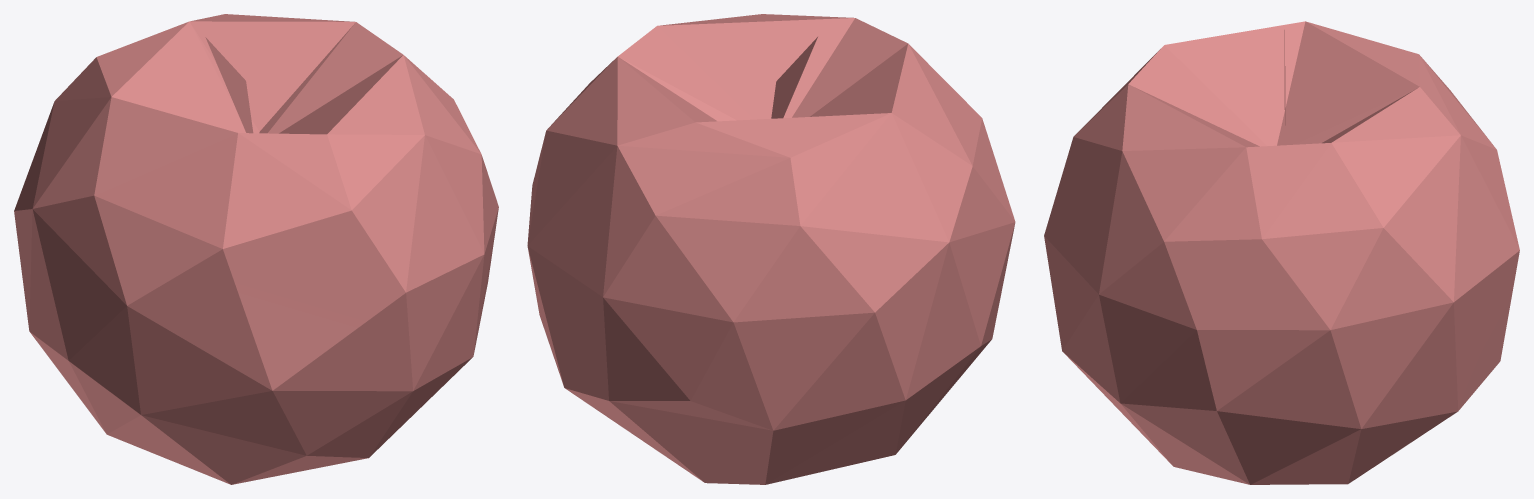
File: Apple.fbx
3 renders of one model, left to right at view 1: azimuth 30°, elevation 25°; view 2: azimuth 150°, elevation 25°; view 3: azimuth 270°, elevation 25°, orthographic. The views are drawn at different scales.
Parts seen in each view (by area): view 1: Manzana_2; view 2: Manzana_2; view 3: Manzana_2.
Boxes of the visible parts, left/top/right/bottom form: Manzana_2: left=14, top=14, right=498, bottom=484; Manzana_2: left=527, top=14, right=1015, bottom=484; Manzana_2: left=1044, top=21, right=1519, bottom=484.
Size of the model in its own units: 584 by 555 by 594.
